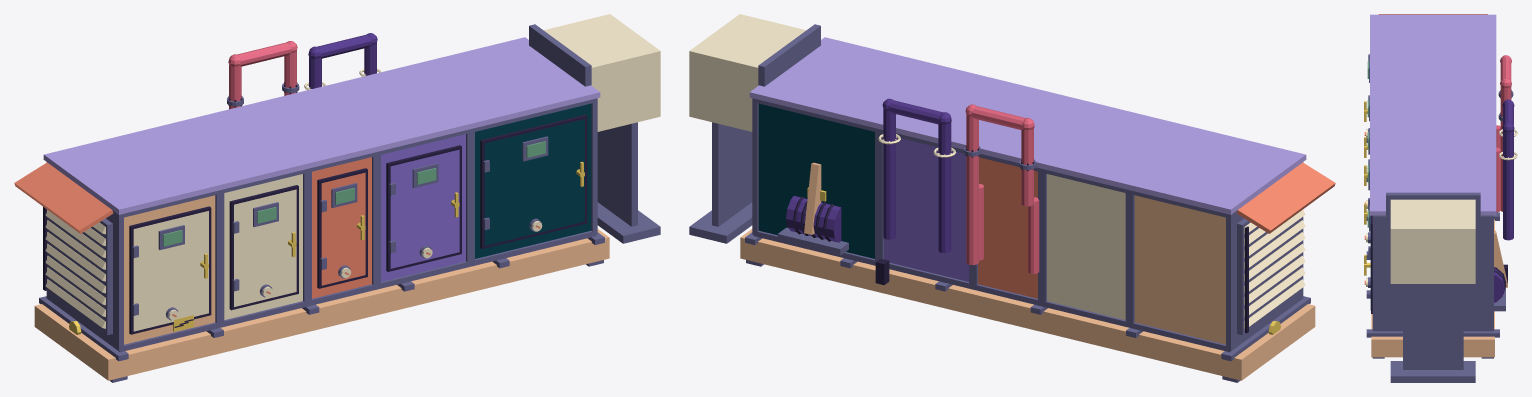
Rendered from cta.glb.
The picture shows the model from 3 angles, left to right: view 1: azimuth 30°, elevation 25°; view 2: azimuth 150°, elevation 25°; view 3: azimuth 270°, elevation 25°; orthographic projection. The views are drawn at different scales.
Visible parts, largest first — view 1: cta_lilac, cta_cream, cta_steel, cta_sand, cta_teal, cta_coral, cta_violet, cta_dark, cta_rose, cta_indigo, cta_sage, cta_yellow; view 2: cta_lilac, cta_sand, cta_steel, cta_cream, cta_teal, cta_coral, cta_violet, cta_indigo, cta_rose, cta_dark; view 3: cta_lilac, cta_steel, cta_cream, cta_indigo, cta_sand, cta_rose, cta_dark, cta_yellow, cta_sage.
Boxes of the visible parts, bbox=[...] form: cta_lilac: bbox=[43, 37, 600, 214]; cta_cream: bbox=[45, 14, 660, 331]; cta_steel: bbox=[39, 24, 660, 382]; cta_sand: bbox=[34, 195, 609, 380]; cta_teal: bbox=[475, 103, 591, 258]; cta_coral: bbox=[14, 157, 371, 298]; cta_violet: bbox=[381, 134, 465, 281]; cta_dark: bbox=[43, 82, 587, 334]; cta_rose: bbox=[228, 41, 297, 109]; cta_indigo: bbox=[308, 33, 377, 88]; cta_sage: bbox=[163, 141, 545, 246]; cta_yellow: bbox=[69, 161, 584, 334]; cta_lilac: bbox=[749, 37, 1306, 214]; cta_sand: bbox=[740, 162, 1315, 380]; cta_steel: bbox=[689, 24, 1310, 382]; cta_cream: bbox=[689, 14, 1305, 328]; cta_teal: bbox=[758, 103, 874, 258]; cta_coral: bbox=[978, 157, 1335, 298]; cta_violet: bbox=[884, 137, 968, 281]; cta_indigo: bbox=[786, 98, 951, 253]; cta_rose: bbox=[965, 104, 1039, 273]; cta_dark: bbox=[793, 146, 1248, 333]; cta_lilac: bbox=[1370, 14, 1496, 215]; cta_steel: bbox=[1366, 54, 1513, 382]; cta_cream: bbox=[1366, 129, 1517, 286]; cta_indigo: bbox=[1494, 99, 1514, 302]; cta_sand: bbox=[1371, 219, 1507, 357]; cta_rose: bbox=[1496, 55, 1511, 212]; cta_dark: bbox=[1371, 90, 1511, 313]; cta_yellow: bbox=[1364, 101, 1370, 275]; cta_sage: bbox=[1367, 61, 1368, 227].
Size of the model in its own units: 4.7 by 1.68 by 1.27.
